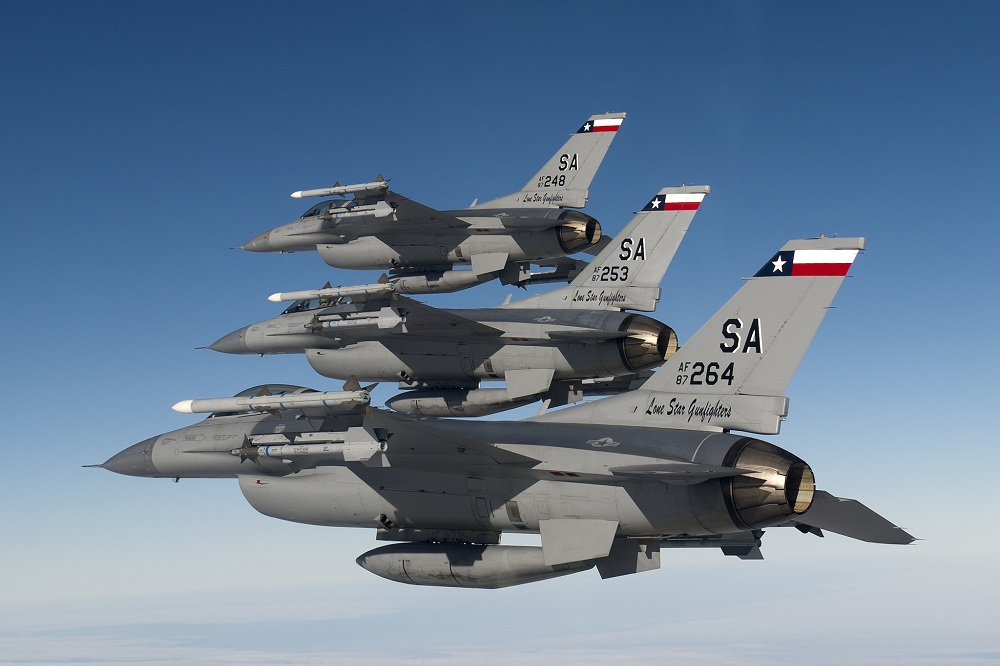airplane: (81, 234, 919, 586), (194, 188, 707, 399), (228, 110, 625, 274)
